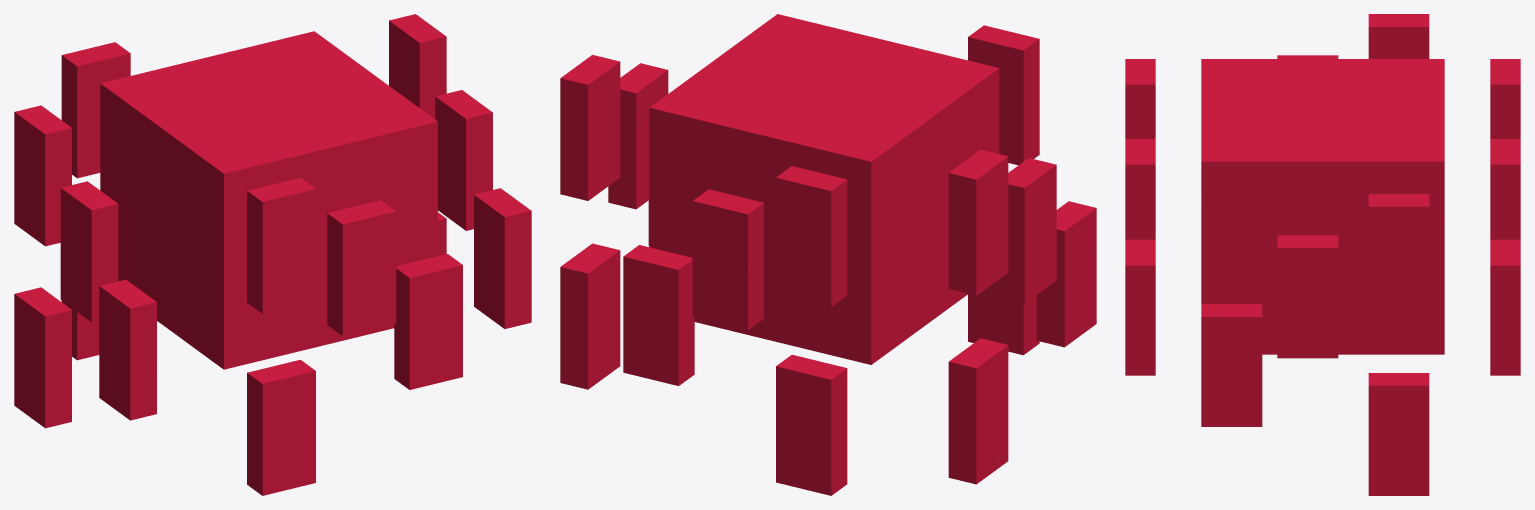
File: planet_crimson.gltf
3 renders of one model, left to right at view 1: azimuth 30°, elevation 25°; view 2: azimuth 150°, elevation 25°; view 3: azimuth 270°, elevation 25°, orthographic. The views are drawn at different scales.
Visible parts, largest first — view 1: mesh (×14); view 2: mesh (×14); view 3: mesh (×12).
Boxes of the visible parts, x1=… form: mesh (×14): x1=14, y1=14, x2=531, y2=495; mesh (×14): x1=560, y1=14, x2=1096, y2=495; mesh (×12): x1=1125, y1=14, x2=1520, y2=495.
Size of the model in its own units: 1.88 by 1.31 by 1.62.
Materials: 1 (1 with a texture image).
